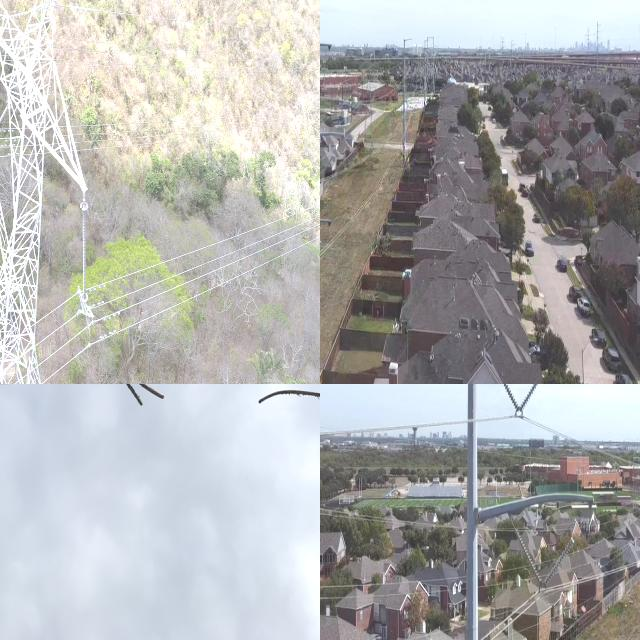杆塔: (0, 0, 97, 384)
正常绝缘子: (534, 527, 579, 599), (511, 521, 548, 593), (77, 187, 92, 317), (512, 384, 541, 424), (499, 384, 524, 420), (320, 152, 336, 184), (320, 55, 326, 70)
电缆破损: (0, 384, 320, 420)
